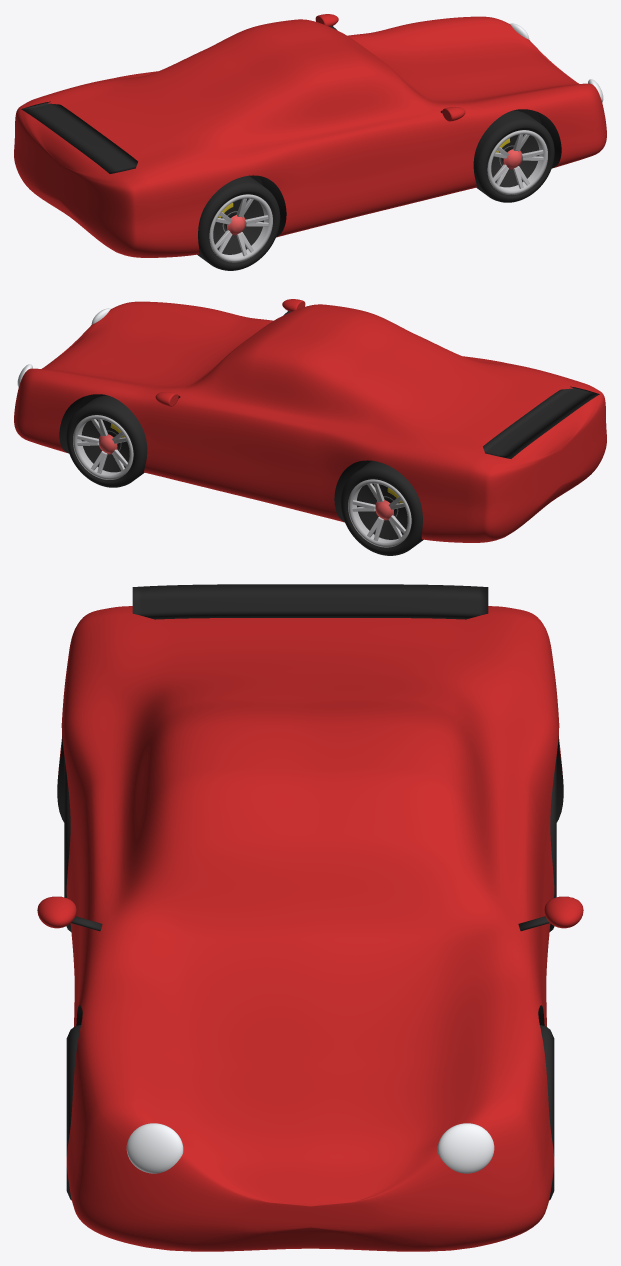
3 views of the same model, one above another, from view 1: azimuth 30°, elevation 25°; view 2: azimuth 150°, elevation 25°; view 3: azimuth 270°, elevation 25° (orthographic). The views are drawn at different scales.
Visible parts, largest first — view 1: body, wheel_RR, wheel_FR, wing; view 2: body, wheel_RL, wheel_FL, wing; view 3: body, wing, lens, lens.001, mirror_L, mirror_R, wheel_FL, wheel_FR.
Boxes of the visible parts, x1,y1,x2,y2 form: body: (14,16,606,257); wheel_RR: (197,175,280,270); wheel_FR: (473,110,554,202); wing: (21,101,137,173); body: (14,301,606,542); wheel_RL: (340,460,423,555); wheel_FL: (66,395,147,487); wing: (483,386,599,458); body: (57,606,563,1251); wing: (132,584,488,619); lens: (437,1123,494,1173); lens.001: (126,1123,183,1173); mirror_L: (518,896,583,931); mirror_R: (37,896,102,931); wheel_FL: (540,1025,554,1200); wheel_FR: (66,1025,80,1200).
Bounding box in the file's own units: 4.53 × 1.3 × 2.09.
